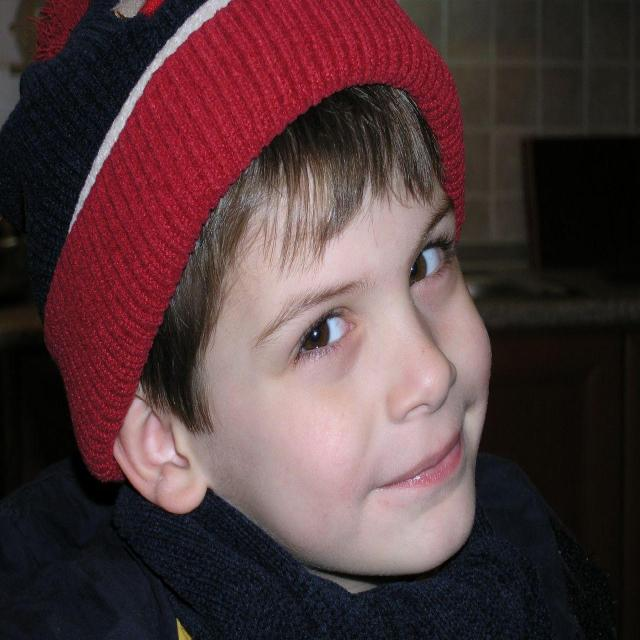no-glass: (288, 241, 450, 357)
